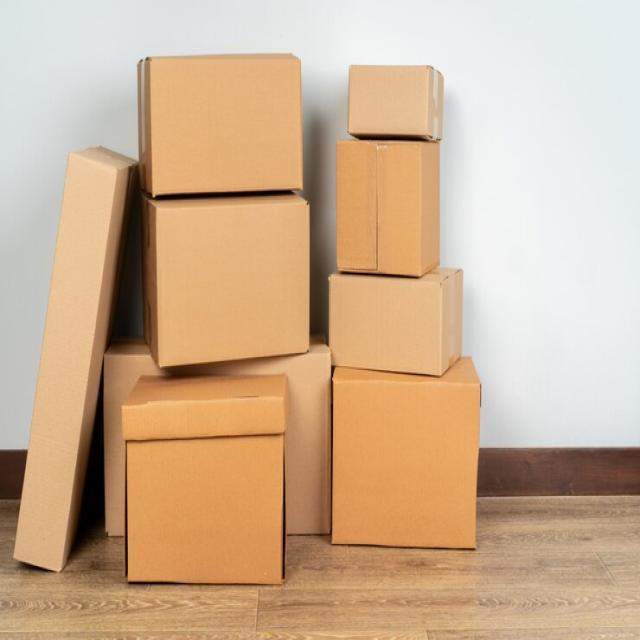BoxFace: (12, 150, 119, 574), (122, 397, 286, 586), (158, 201, 310, 371), (332, 377, 480, 550), (151, 54, 302, 198), (329, 274, 442, 381), (336, 136, 422, 276), (348, 64, 428, 136)
